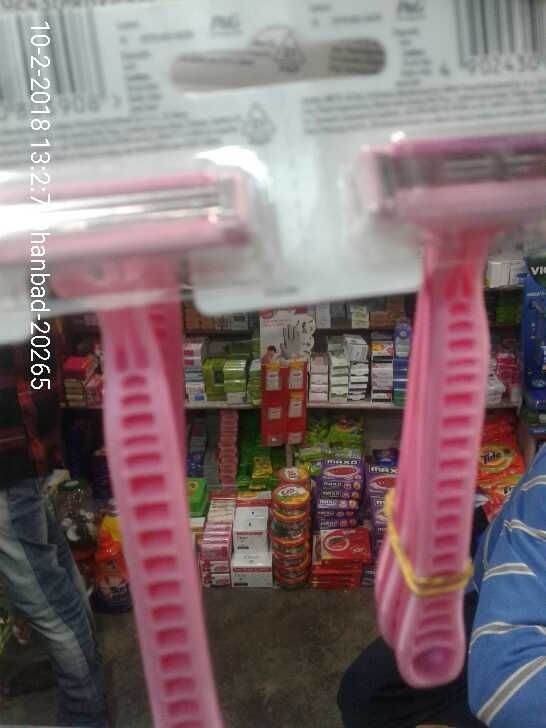venus: (3, 170, 266, 719), (336, 126, 546, 647)
